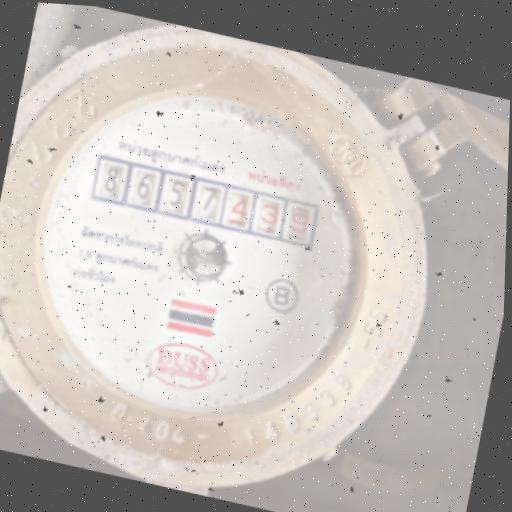3: (255, 197, 280, 236)
4: (225, 191, 250, 230)
5: (164, 177, 189, 214)
6: (130, 170, 157, 207)
7: (196, 185, 220, 221)
8: (98, 163, 123, 199)
9: (285, 206, 310, 241)
border_water_meter_number: (89, 153, 322, 249)
